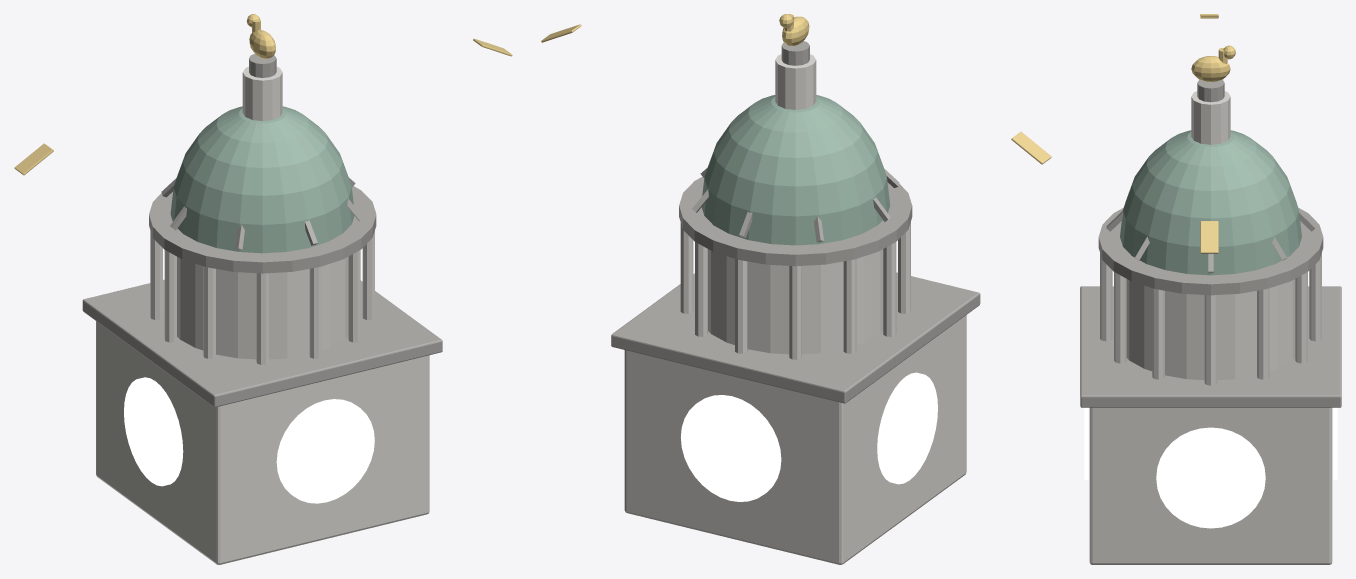
File: clock_crown.glb
The picture shows the model from 3 angles, left to right: view 1: azimuth 30°, elevation 25°; view 2: azimuth 150°, elevation 25°; view 3: azimuth 270°, elevation 25°; orthographic projection. The views are drawn at different scales.
Visible parts, largest first — view 1: clock_crown; view 2: clock_crown; view 3: clock_crown.
Part boxes in pixels (bbox=[...]): clock_crown: bbox=[14, 14, 512, 564]; clock_crown: bbox=[541, 14, 1051, 564]; clock_crown: bbox=[1080, 14, 1341, 564].
Bounding box in the file's own units: 36.76 × 34.05 × 17.2.
